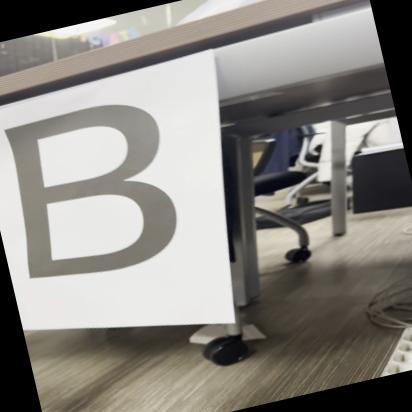seat: (0, 85, 211, 300)
